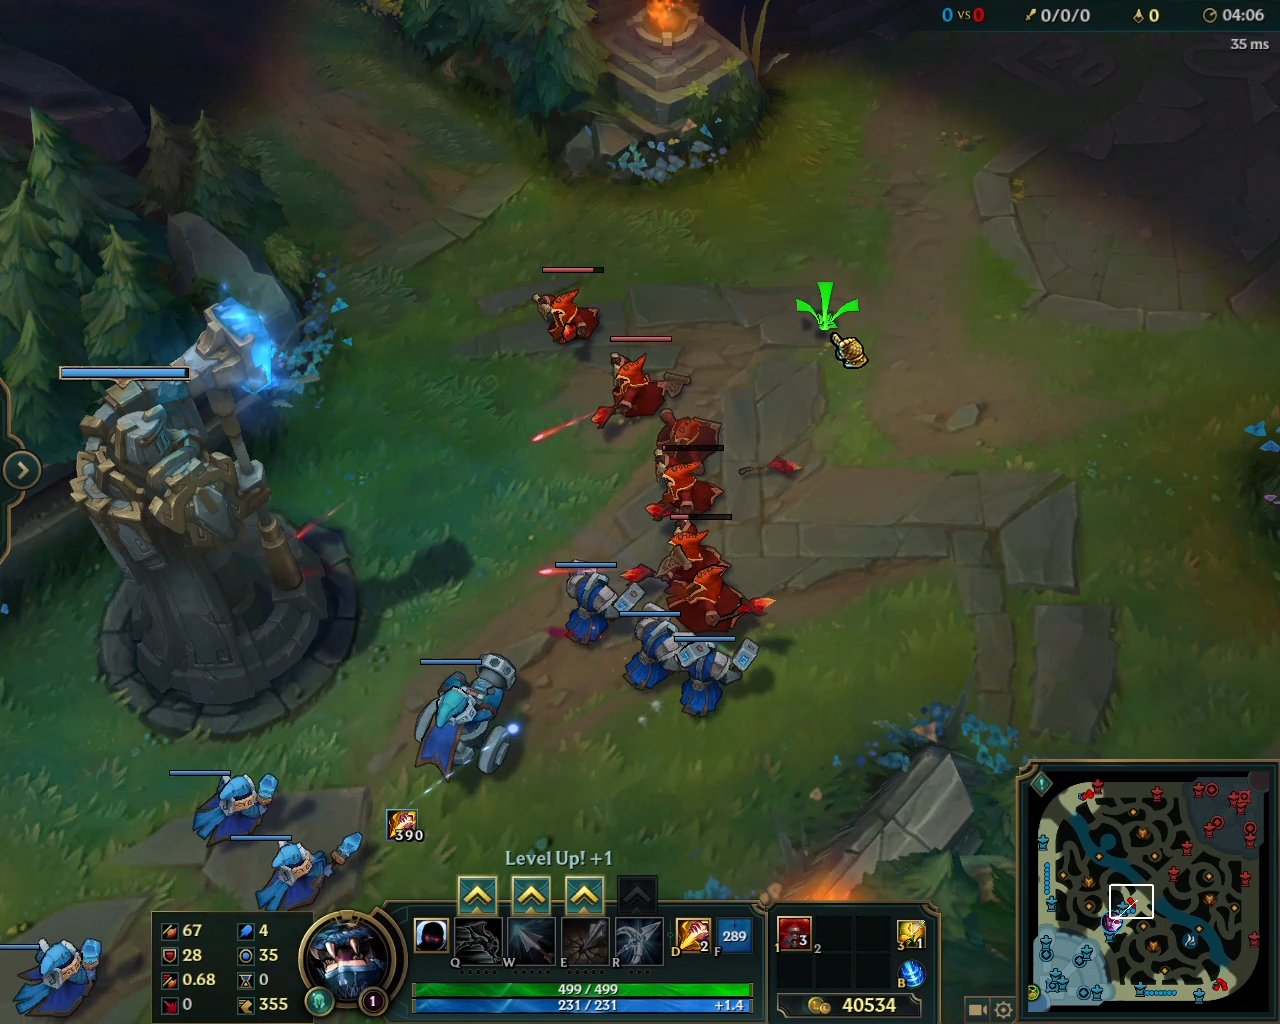EnemyMinion: (621, 514, 731, 587), (587, 336, 672, 430), (644, 444, 725, 523), (530, 266, 604, 348)
